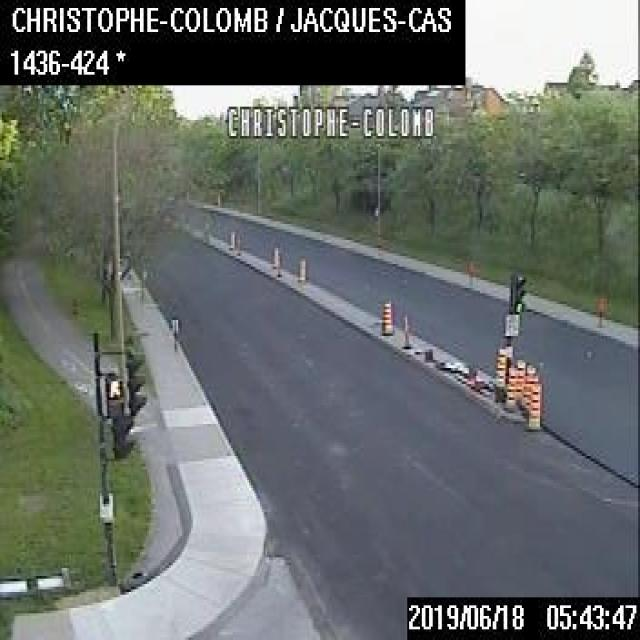construction: (524, 380, 542, 429), (518, 362, 535, 408), (522, 372, 538, 416), (511, 356, 524, 403), (503, 362, 516, 409), (494, 346, 504, 389), (380, 298, 391, 332), (595, 293, 603, 326), (297, 255, 305, 280), (465, 258, 472, 286), (271, 244, 278, 266), (228, 229, 235, 248)
